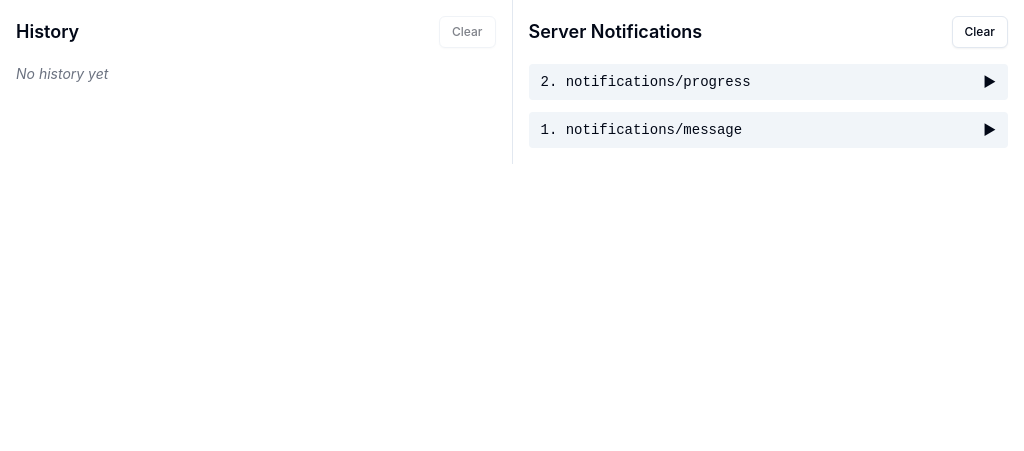
Test case: HistoryAndNotifications › expands and collapses notification items when clicked
The image size is (1024, 451).
Expected: the text "▶" is shown 2 times, 983,72 -> 996,92; 983,120 -> 996,140
Expected: the text "Details:" is not shown
Click to expand
Click the text "2. notifications/progress" at (646,82), box 540,72 -> 751,92
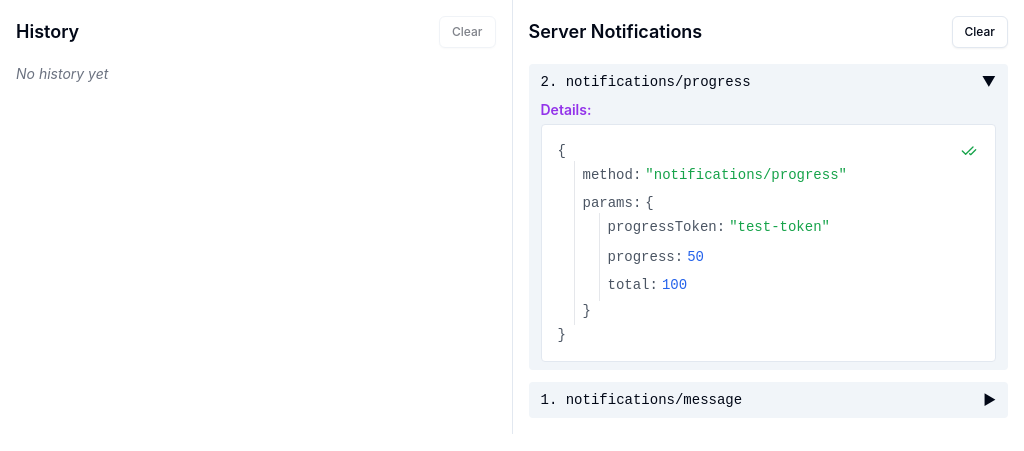
Expected: the text "▶" is shown once, 983,390 -> 996,410
Expected: the text "▼" is shown, 982,72 -> 996,92
Expected: the text "Details:" is shown, 540,100 -> 591,120
